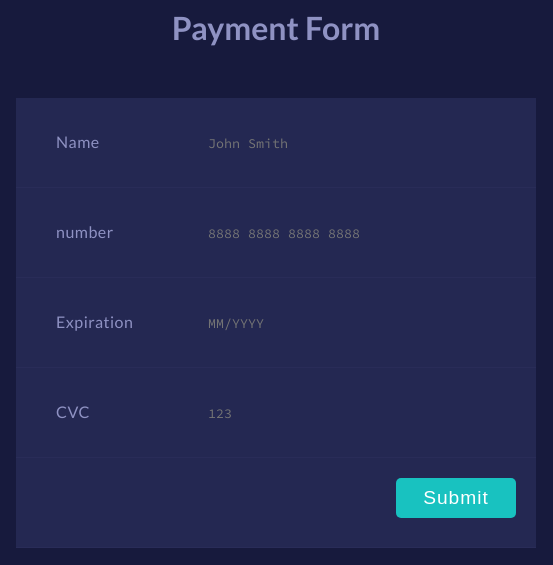
PaymentForm › shows error messages › when no fields are filled out and form is submitted
The image size is (553, 565).
Click the button "Submit" at (456, 498), box [396,478,516,518]
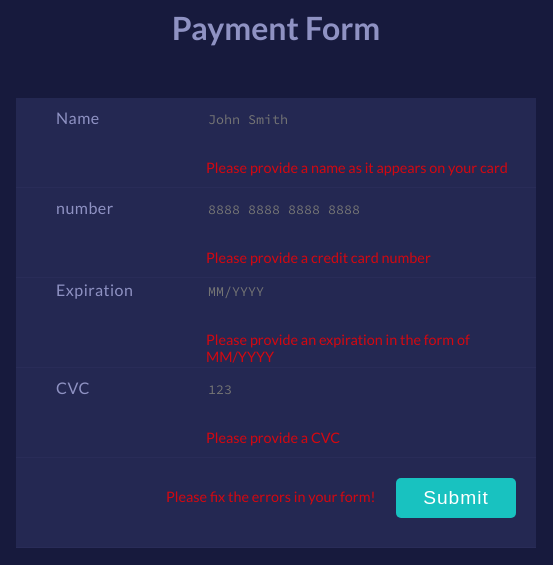
Now the text "Please provide a name as it appears on your card" is shown, box [206,159,508,176]
Now the text "Please provide a credit card number" is shown, box [206,249,431,266]
Now the text "Please provide an expiration in the form of MM/YYYY" is shown, box [206,331,470,365]
